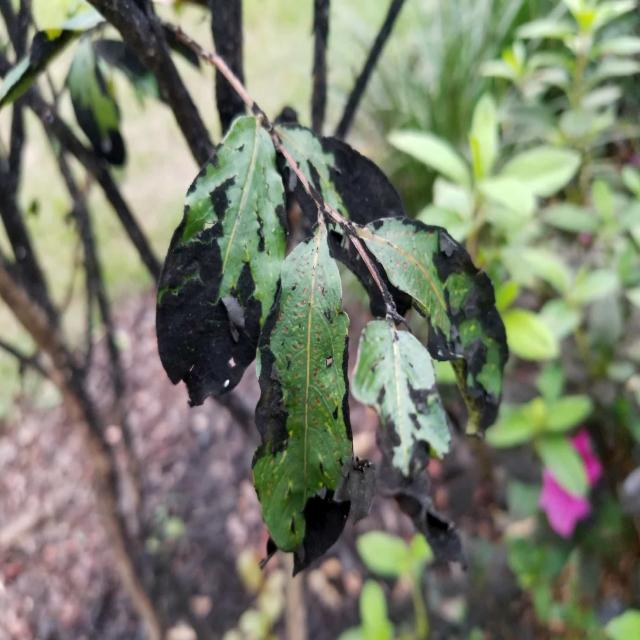Gymnosporangium_Rusts: (154, 109, 508, 576)
